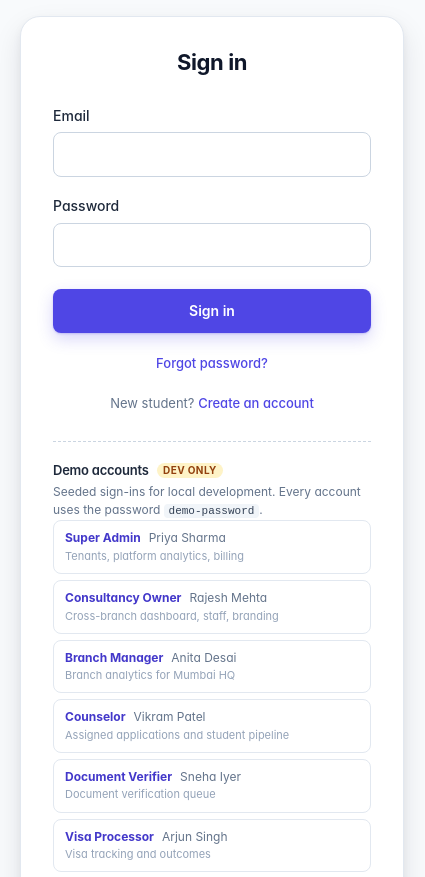
Test: LoginPage › shows a generic error when the login response omits access_token
Expected: the heading "Sign in" is shown, [177,49,247,75]
Step 1. Type "counselor@demo.test" into the field with test id "login-email" → (212,155), box [53,132,371,177]
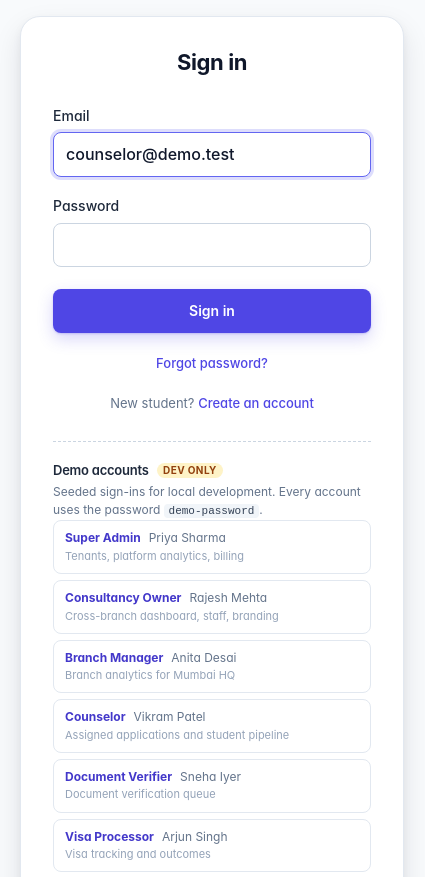
Step 2. Type "demo-password" into the password field with test id "login-password" → (212,245), box [53,223,371,268]
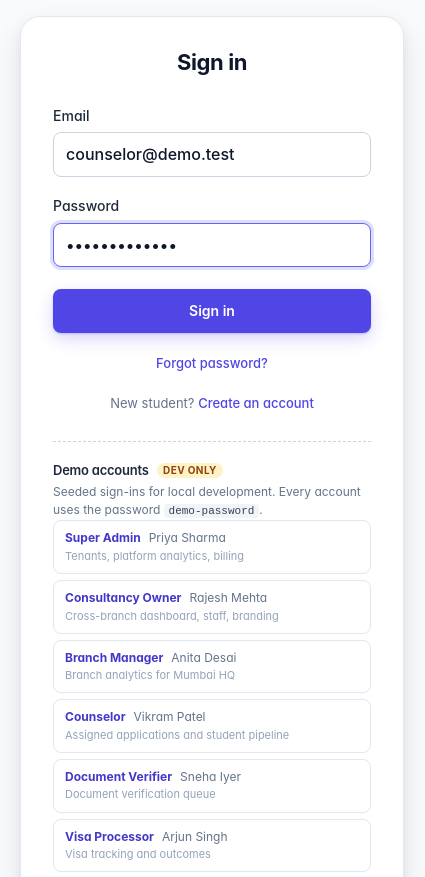
Step 3. Click the button with test id "login-submit" → (212,311), box [53,290,371,333]
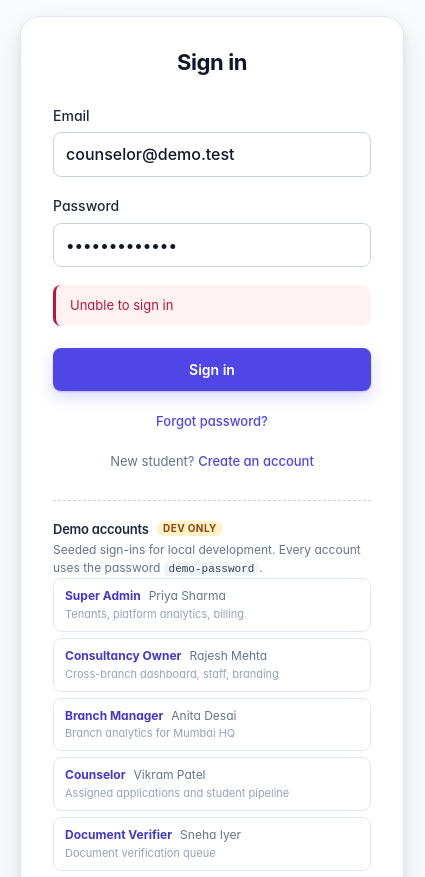
Expected: the message "Unable to sign in" is shown, [53,286,371,326]
Expected: the message with test id "login-error" reads "Unable to sign in", [70,298,173,314]
